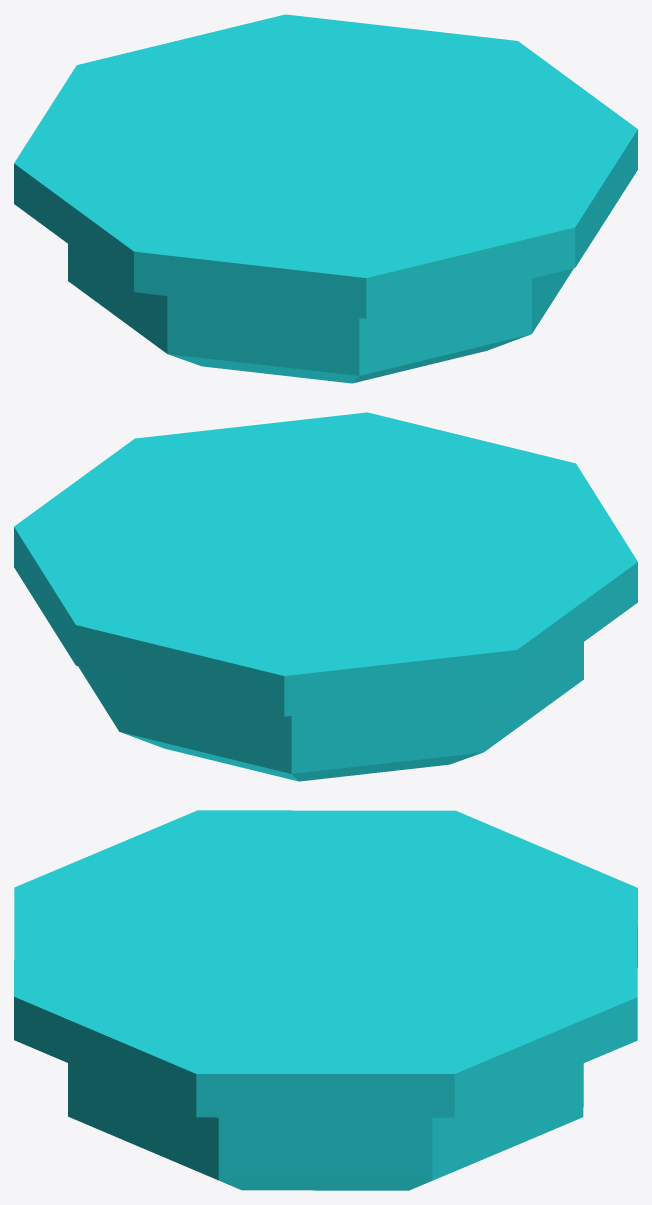
Rendered from plataformacorazon.fbx.
3 renders of one model, top to bottom at view 1: azimuth 30°, elevation 25°; view 2: azimuth 150°, elevation 25°; view 3: azimuth 270°, elevation 25°, orthographic. The views are drawn at different scales.
Visible parts, largest first — view 1: Cylinder.008; view 2: Cylinder.008; view 3: Cylinder.008.
Part boxes in pixels (x1,y1,x2,y2): Cylinder.008: (14, 14, 637, 383); Cylinder.008: (14, 412, 637, 781); Cylinder.008: (14, 810, 637, 1190).
Size of the model in its own units: 300 by 86.41 by 300.
